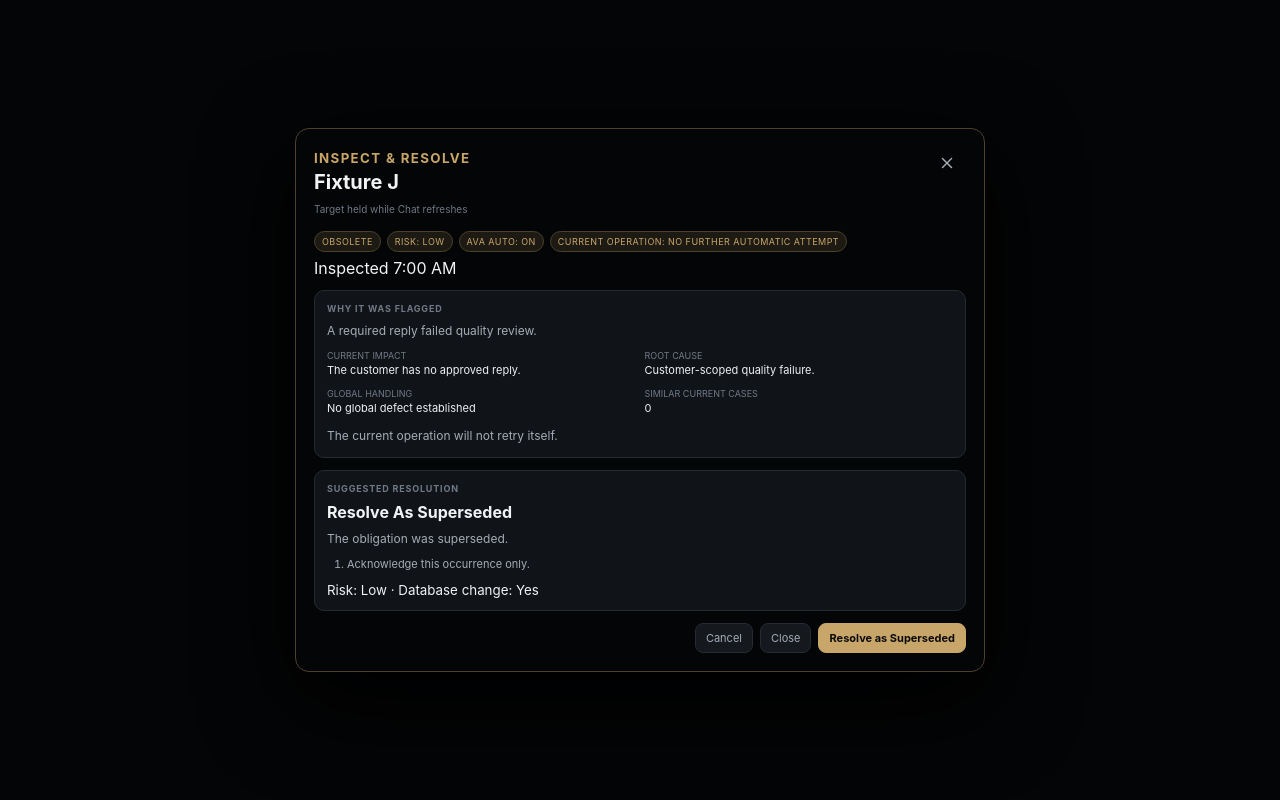
Test case: Inspect & Resolve › renders superseded authority with specific success wording
The width and height of the screenshot is (1280, 800).
Click the button "Resolve as Superseded" at (892, 638), box [818, 623, 966, 653]
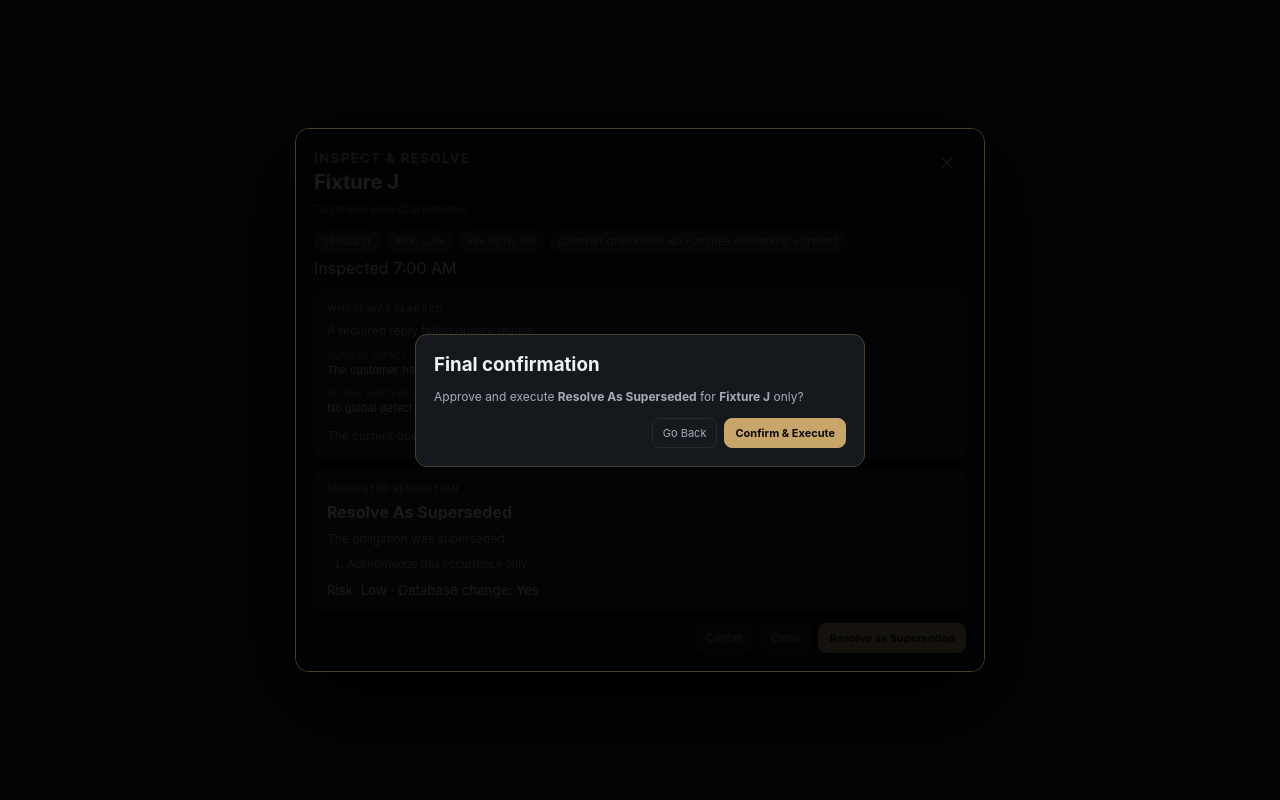
Click the button "Confirm & Execute" at (785, 432), box [724, 418, 846, 448]
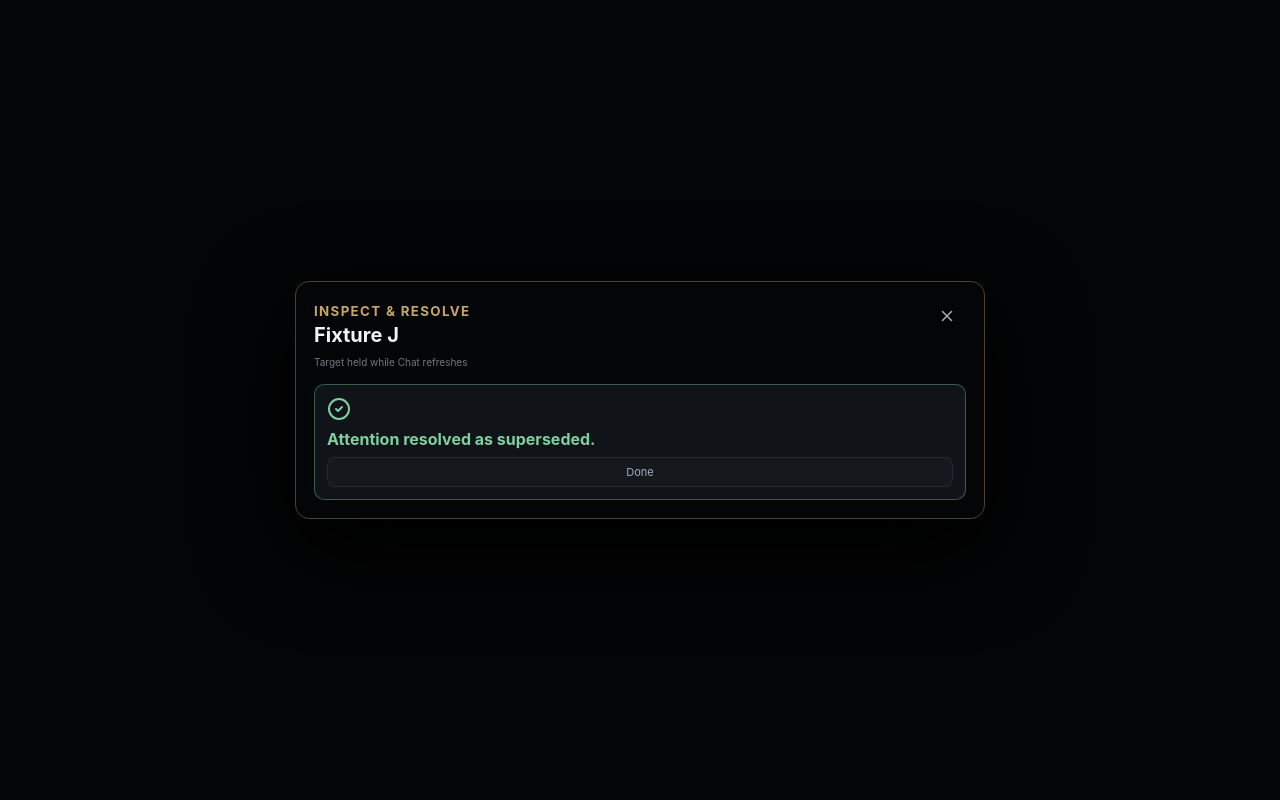
Expected: the text "Attention resolved as superseded." is shown, [327, 429, 595, 449]
